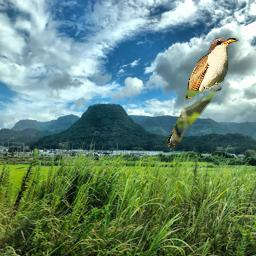Cuckoo: (164, 35, 240, 150)
